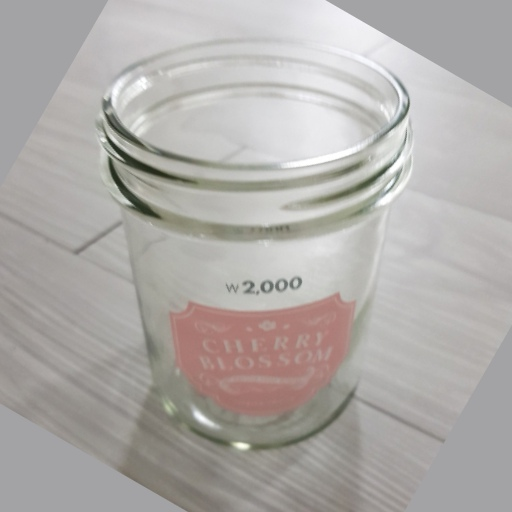Glass_5: (94, 34, 414, 453)
